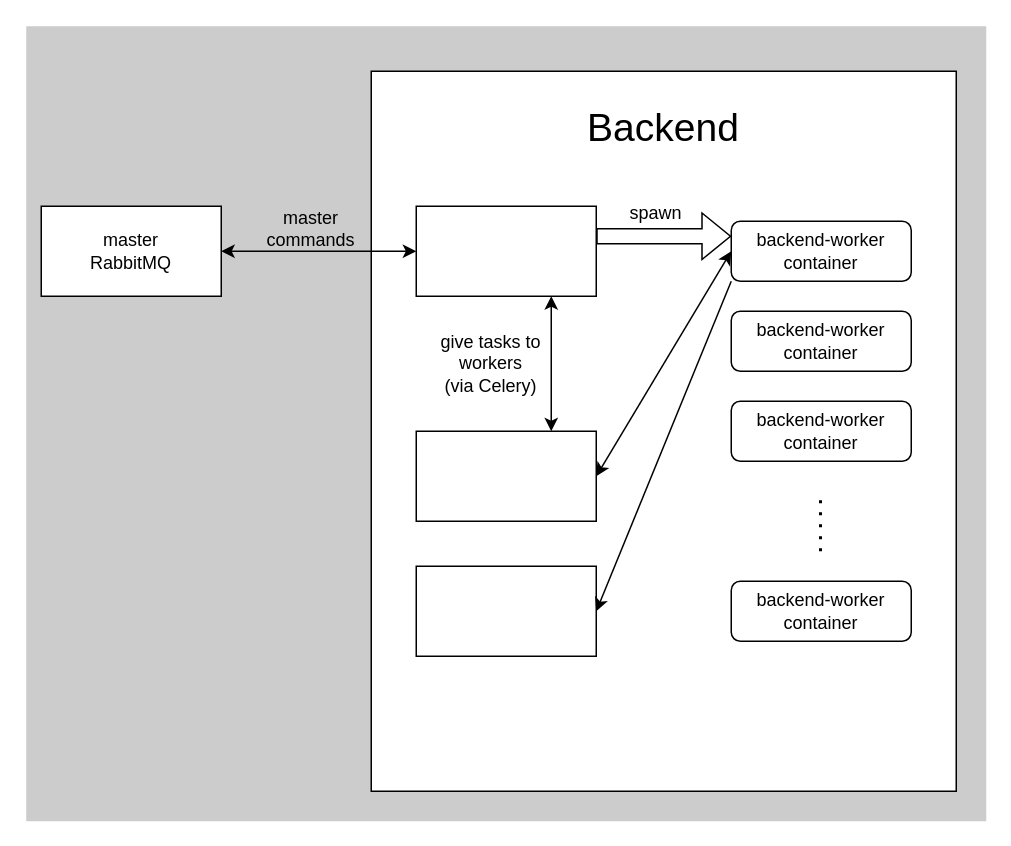
This 1011x846 diagram has some shape labels left out. The shapes that lost their labels are listed below. From the top down, each one's box as (x1, y1, x2, y2) in pixels, then its label:
(415, 205, 596, 296): backend container spawner
(415, 430, 596, 521): RabbitMQ (task broker for Celery)
(415, 565, 596, 656): Redis (task result backend for Celery)
